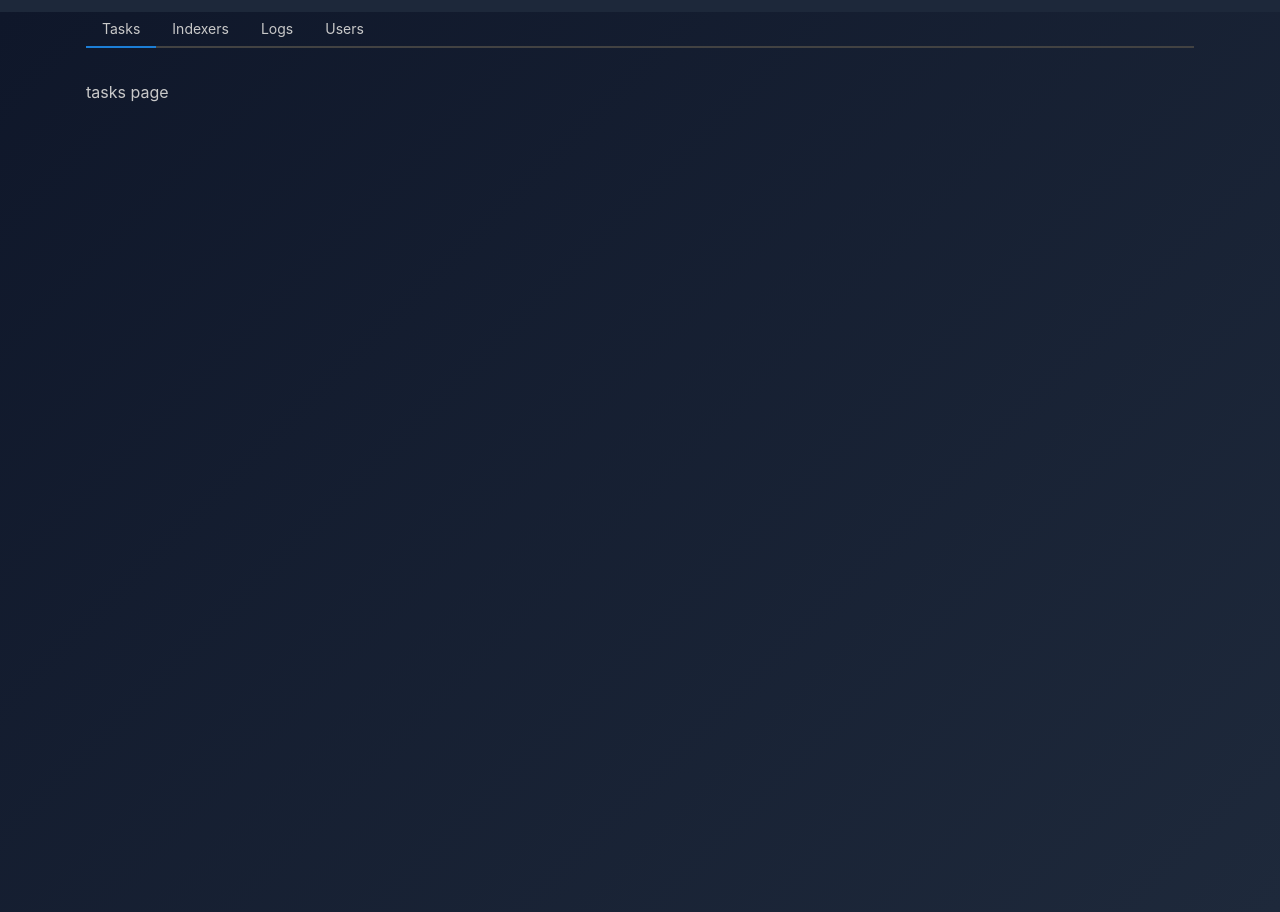
Test: SystemLayout › navigates to the section a tab names
The width and height of the screenshot is (1280, 912).
Click the tab "Logs" at (277, 30), box [245,12,309,48]
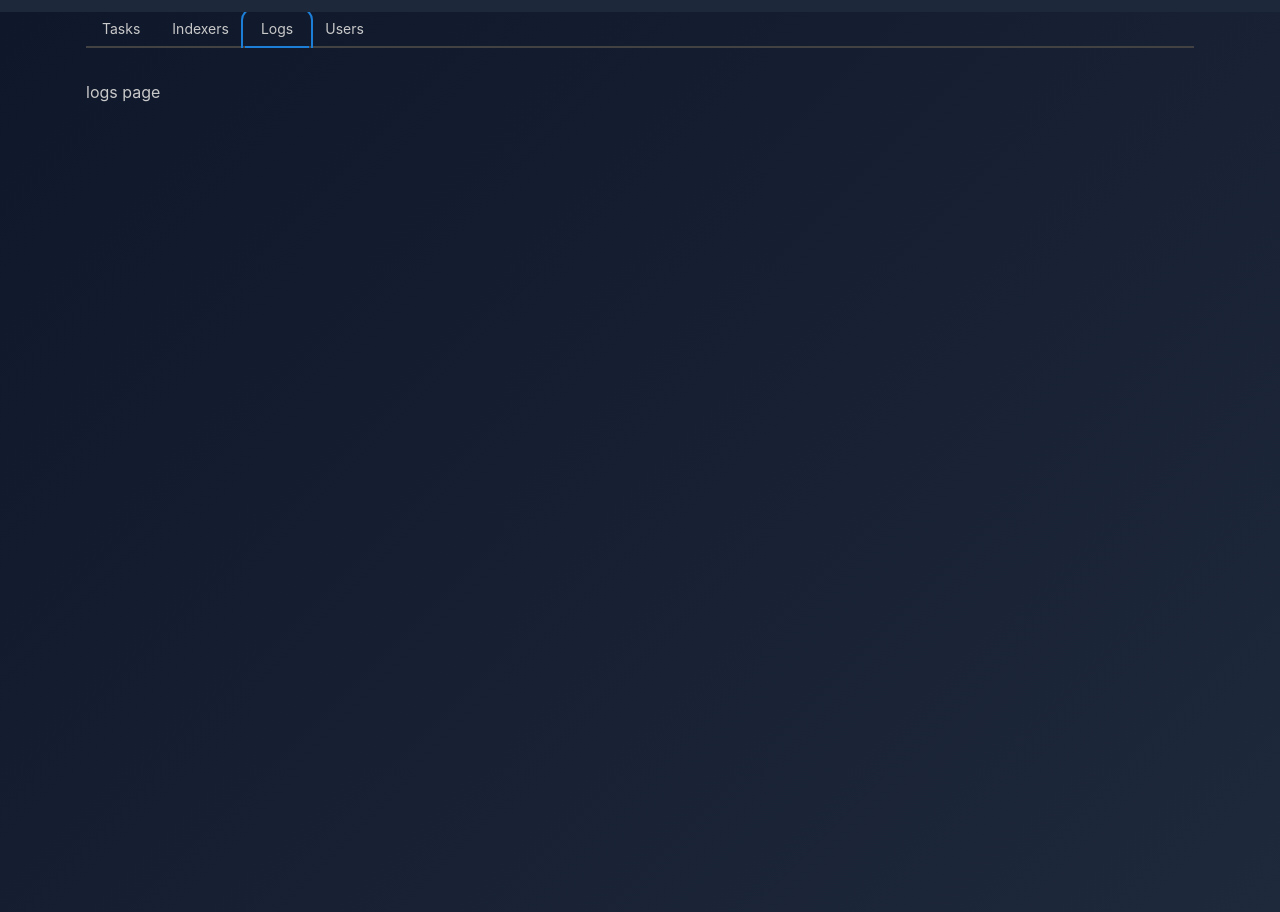
Now the text "logs page" is shown, box [86,82,160,102]
